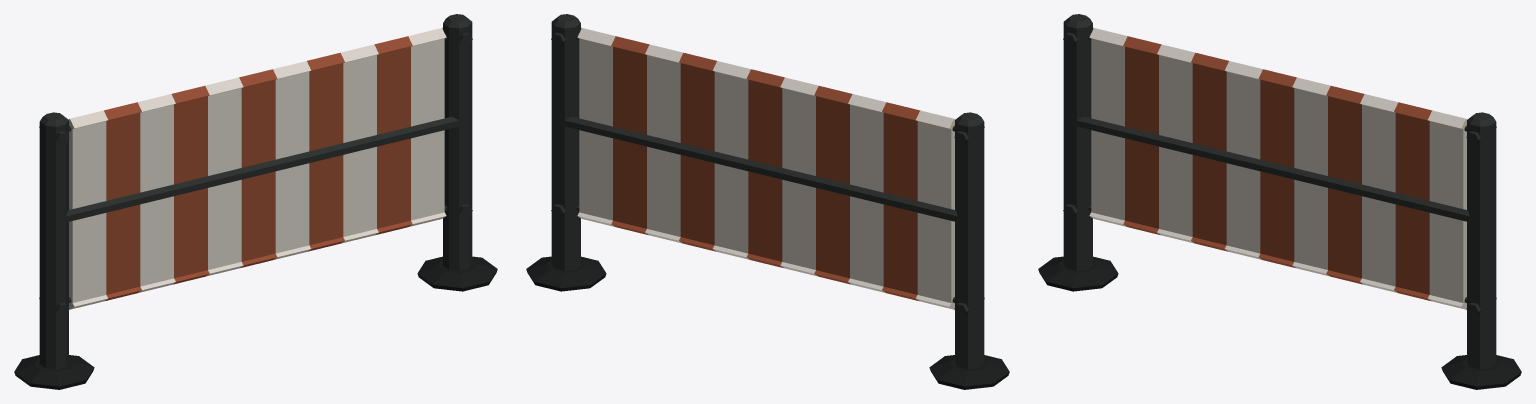
Rendered from terrace-barrier-set-30dd76.glb.
The picture shows the model from 3 angles, left to right: view 1: azimuth 30°, elevation 25°; view 2: azimuth 150°, elevation 25°; view 3: azimuth 330°, elevation 25°; orthographic projection.
Parts seen in each view (by area): view 1: cloth, frame; view 2: cloth, frame; view 3: cloth, frame.
Boxes of the visible parts, bbox=[...] form: cloth: bbox=[68, 28, 446, 309]; frame: bbox=[14, 14, 497, 389]; cloth: bbox=[577, 28, 955, 309]; frame: bbox=[526, 14, 1009, 389]; cloth: bbox=[1089, 28, 1467, 309]; frame: bbox=[1038, 14, 1521, 389].
Bounding box in the file's own units: 2 × 1.05 × 0.2772.
